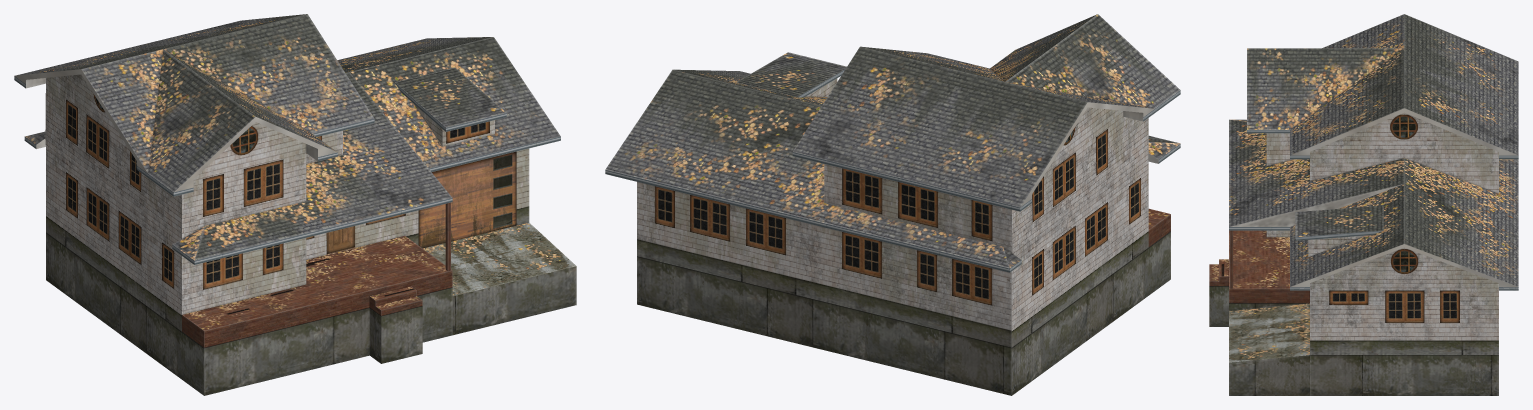
The model's file is House 7 - Separated.fbx.
3 renders of one model, left to right at view 1: azimuth 30°, elevation 25°; view 2: azimuth 150°, elevation 25°; view 3: azimuth 270°, elevation 25°, orthographic. The views are drawn at different scales.
Visible parts, largest first — view 1: House 7, Door_Garage, Door_Front; view 2: House 7; view 3: House 7.
Boxes of the visible parts, <box> form: House 7: <box>14,14,576,395</box>; Door_Garage: <box>418,151,516,248</box>; Door_Front: <box>328,226,353,253</box>; House 7: <box>605,14,1180,395</box>; House 7: <box>1209,14,1518,395</box>.
Size of the model in its own units: 5.78 by 3.43 by 4.4.
